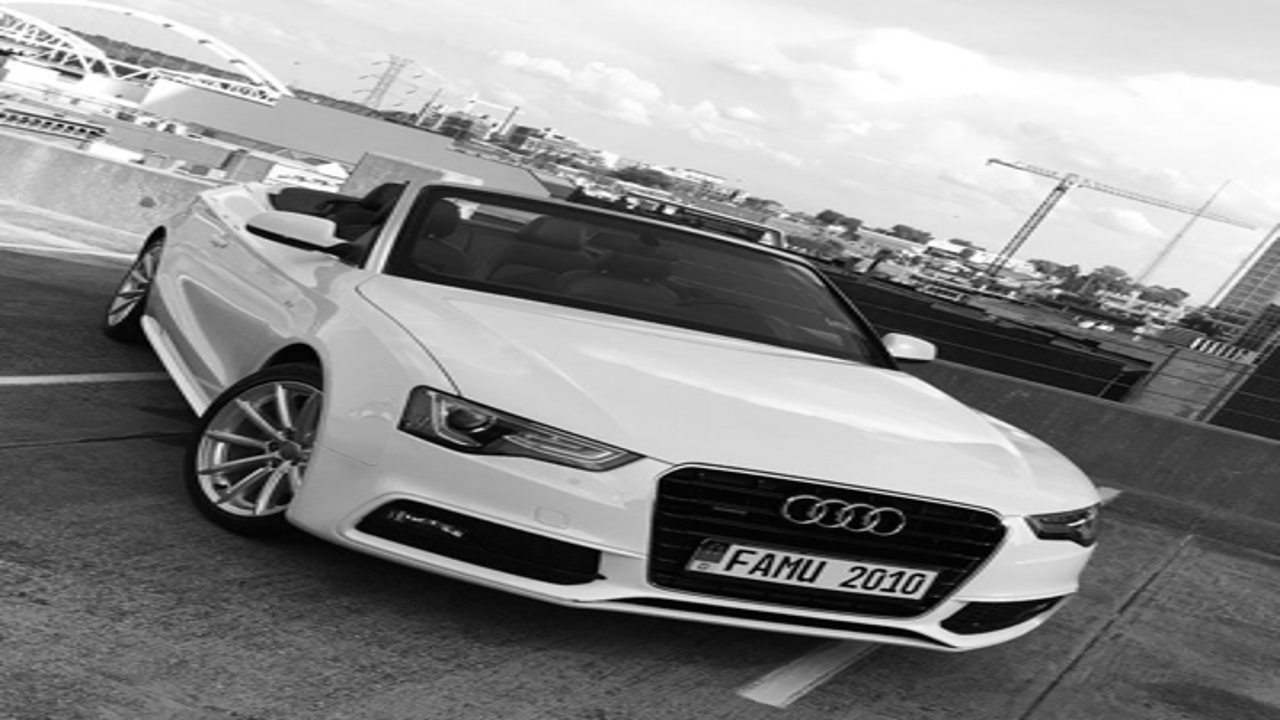license: (686, 530, 938, 610)
